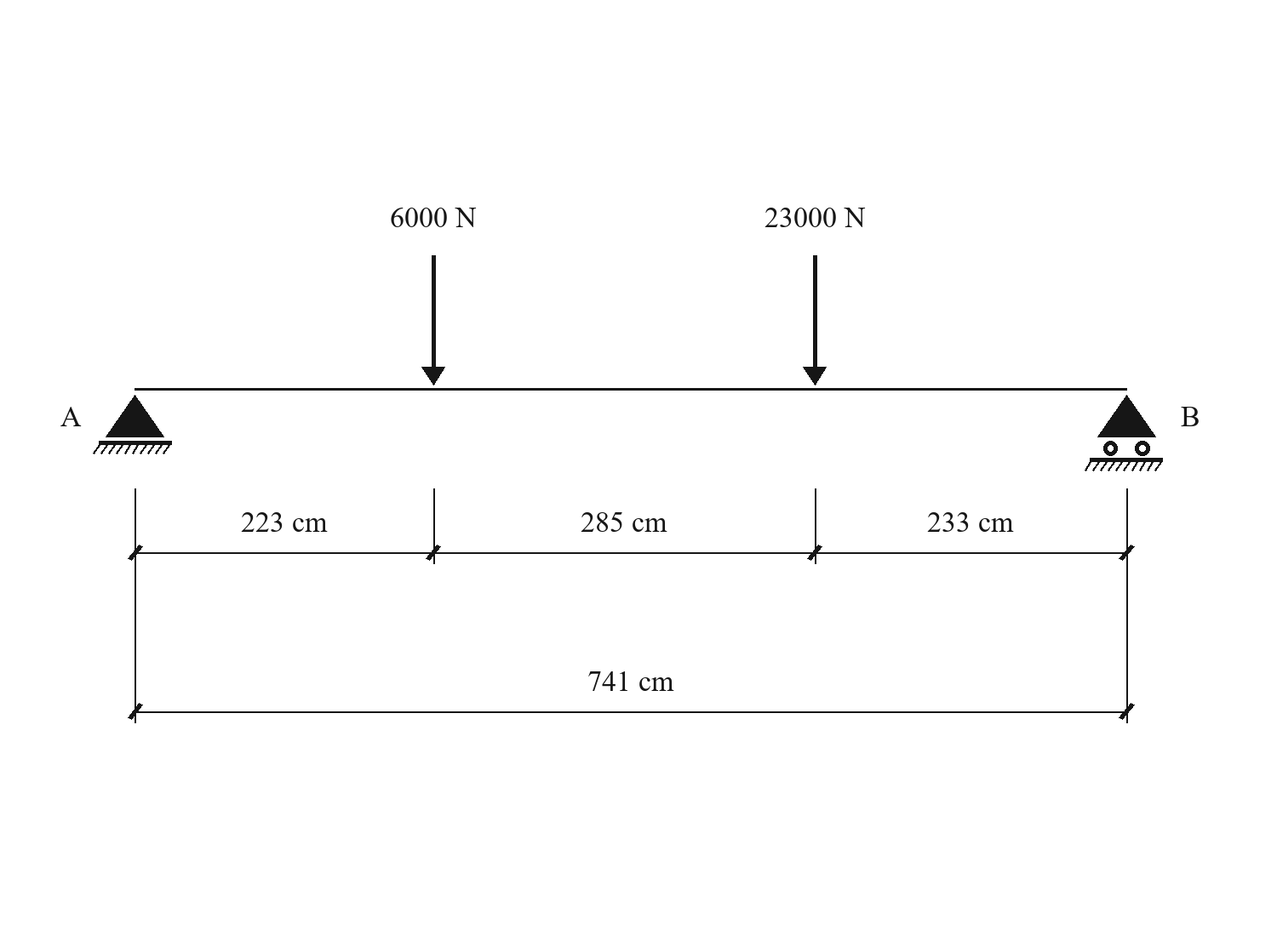pin_support: (93, 395, 172, 454)
point_load: (421, 255, 445, 385), (803, 255, 827, 385)
roller_support: (1085, 395, 1163, 471)
